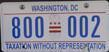placa de veiculo: (2, 2, 106, 51)
